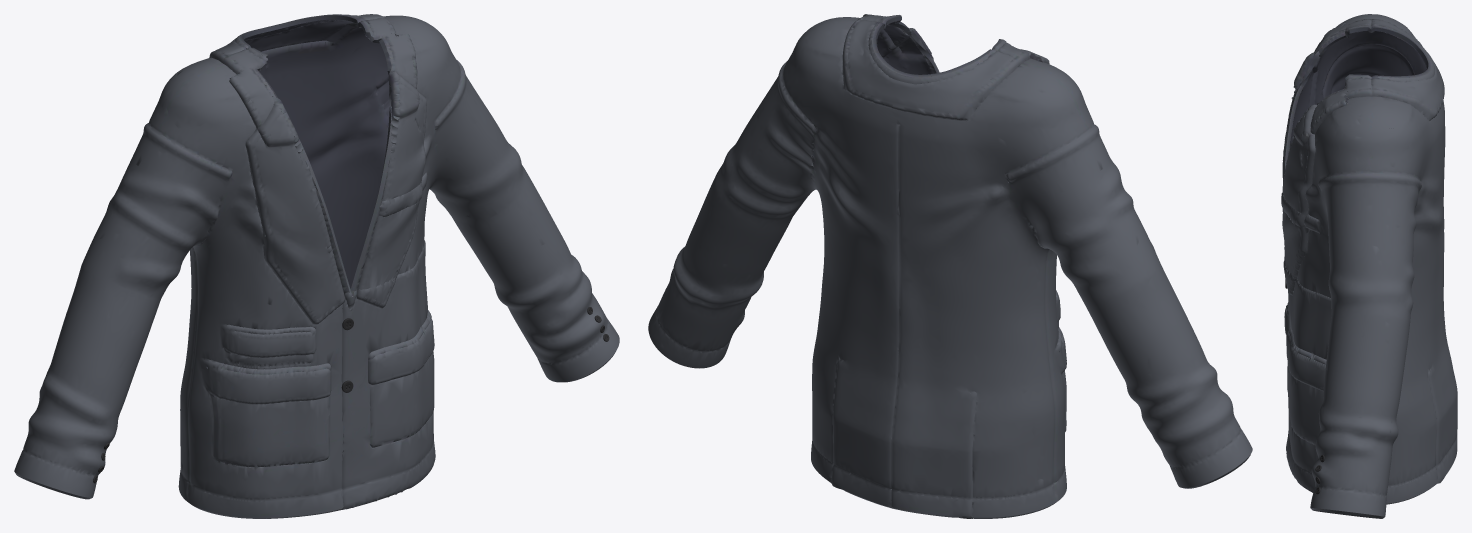
File: 03_chaqueta_traje_pbr.glb
The picture shows the model from 3 angles, left to right: view 1: azimuth 30°, elevation 25°; view 2: azimuth 150°, elevation 25°; view 3: azimuth 270°, elevation 25°; orthographic projection. The views are drawn at different scales.
Visible parts, largest first — view 1: Camiseta PBR; view 2: Camiseta PBR; view 3: Camiseta PBR.
Boxes of the visible parts, bbox=[...] form: Camiseta PBR: bbox=[14, 14, 619, 518]; Camiseta PBR: bbox=[648, 14, 1252, 518]; Camiseta PBR: bbox=[1281, 14, 1457, 518].
Size of the model in its own units: 1.03 by 0.736 by 0.292.
2 materials, 1 textured.
